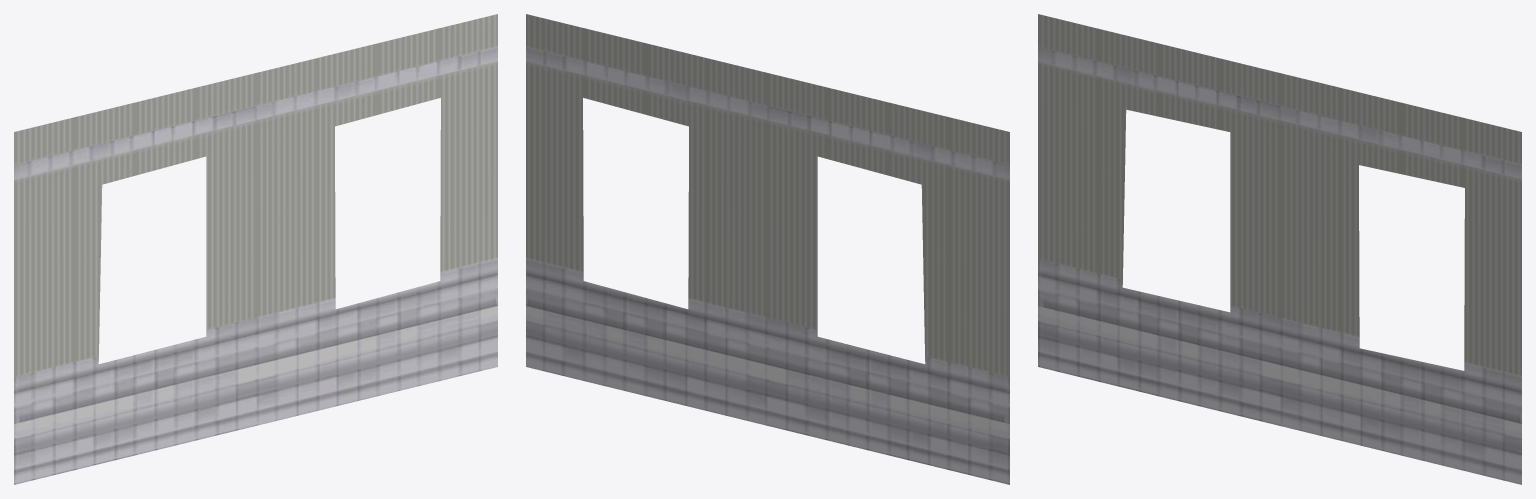
Rendered from W_AI3_ff [GraueStreifen]_2312.glb.
3 renders of one model, left to right at view 1: azimuth 30°, elevation 25°; view 2: azimuth 150°, elevation 25°; view 3: azimuth 330°, elevation 25°, orthographic.
Visible parts, largest first — view 1: pPlaneShape1; view 2: pPlaneShape1; view 3: pPlaneShape1.
Part boxes in pixels (x1,y1,x2,y2): pPlaneShape1: (14, 14, 497, 484); pPlaneShape1: (526, 14, 1009, 484); pPlaneShape1: (1038, 14, 1521, 484).
Bounding box in the file's own units: 0.5 × 0.3486 × 1.12e-07.
1 material, 1 textured.
